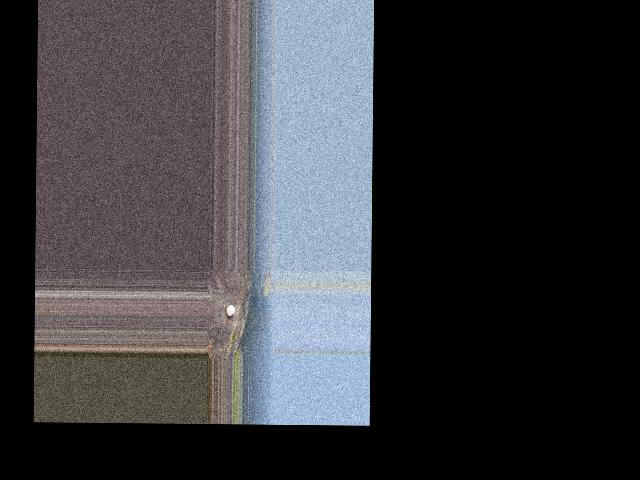egg: (226, 304, 234, 315)
